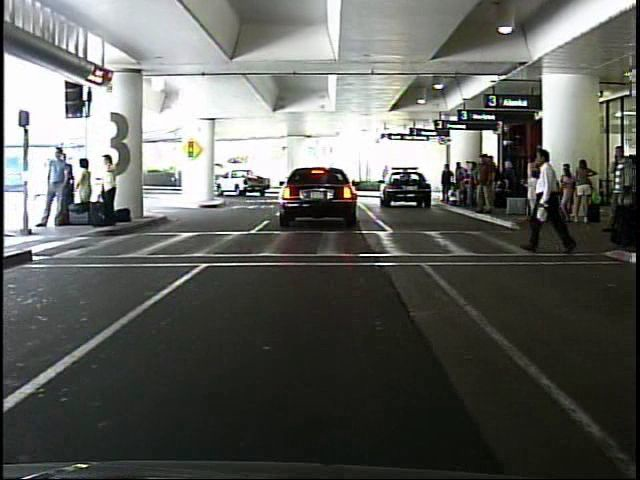person: (528, 141, 583, 261), (39, 142, 74, 231), (75, 153, 99, 224), (102, 149, 123, 227), (438, 163, 454, 206), (170, 163, 183, 189)
